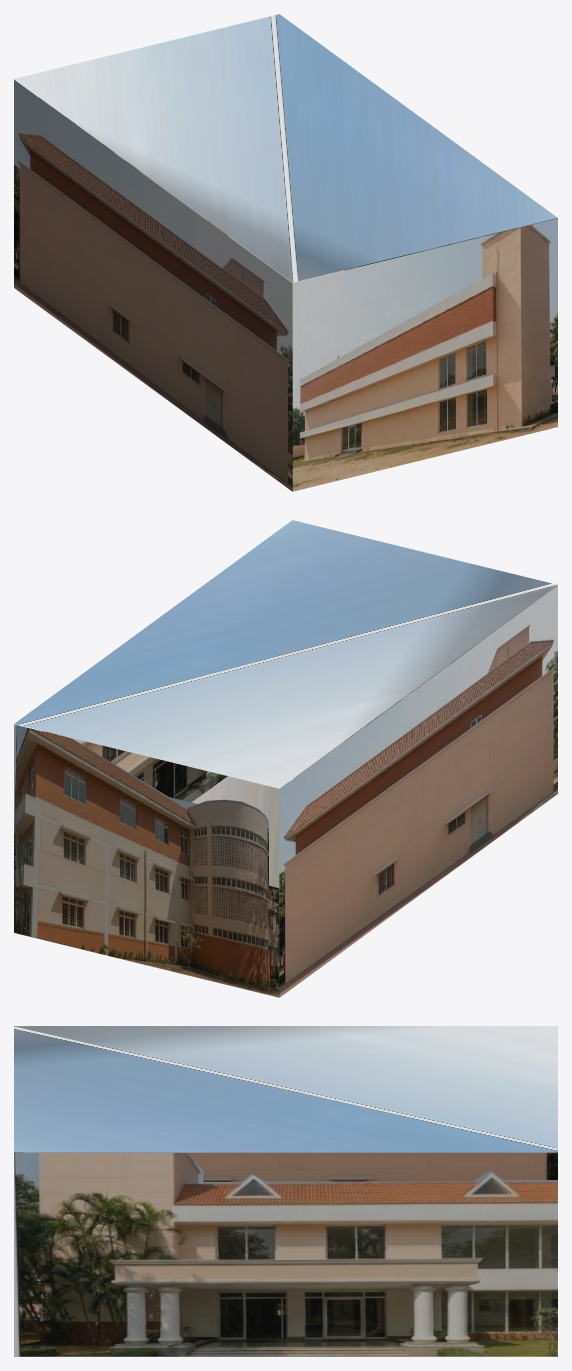
3 renders of one model, top to bottom at view 1: azimuth 30°, elevation 25°; view 2: azimuth 150°, elevation 25°; view 3: azimuth 270°, elevation 25°, orthographic. The views are drawn at different scales.
Parts seen in each view (by area): view 1: Cube; view 2: Cube; view 3: Cube.
Part boxes in pixels (bbox=[...]): Cube: bbox=[14, 14, 557, 491]; Cube: bbox=[14, 520, 557, 997]; Cube: bbox=[14, 1026, 557, 1356].
Size of the model in its own units: 17768 by 13376 by 32287.
Materials: 1 (1 with a texture image).
